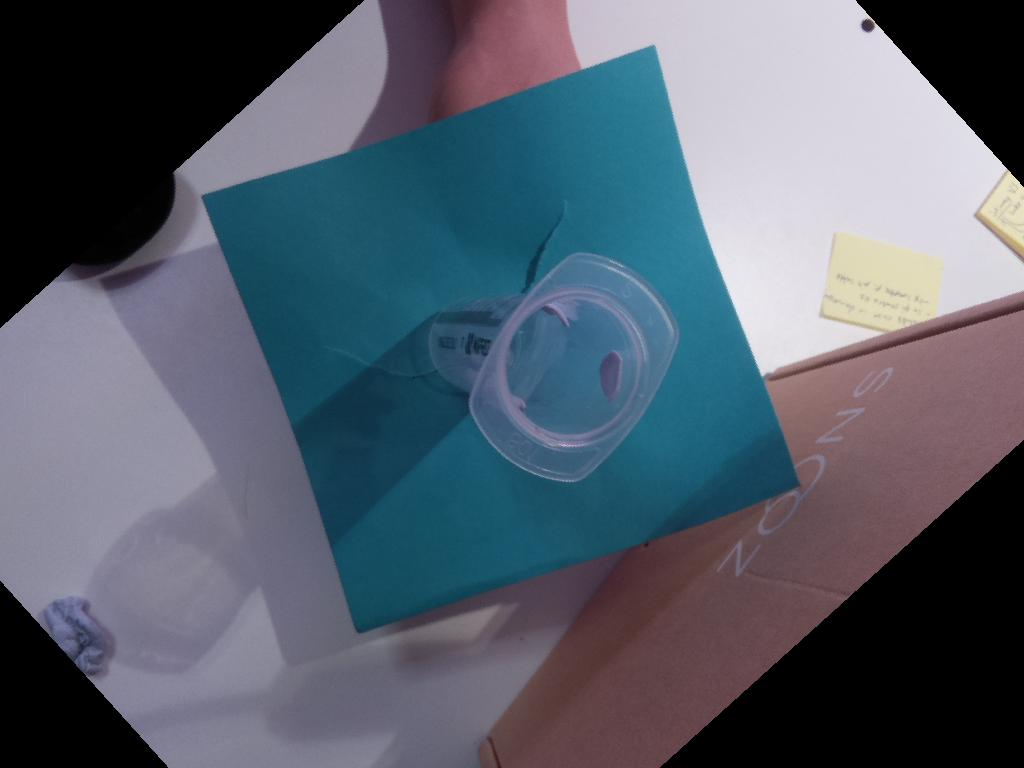dirty: (469, 253, 681, 484)
